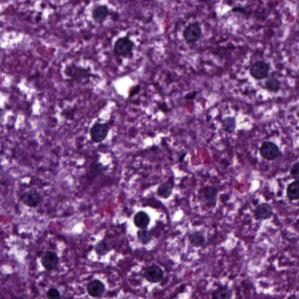inflammation: (84, 118, 115, 145), (110, 32, 134, 61), (253, 141, 283, 162), (142, 263, 168, 286), (82, 276, 106, 298), (185, 20, 207, 42), (132, 207, 152, 231), (77, 191, 96, 212)
